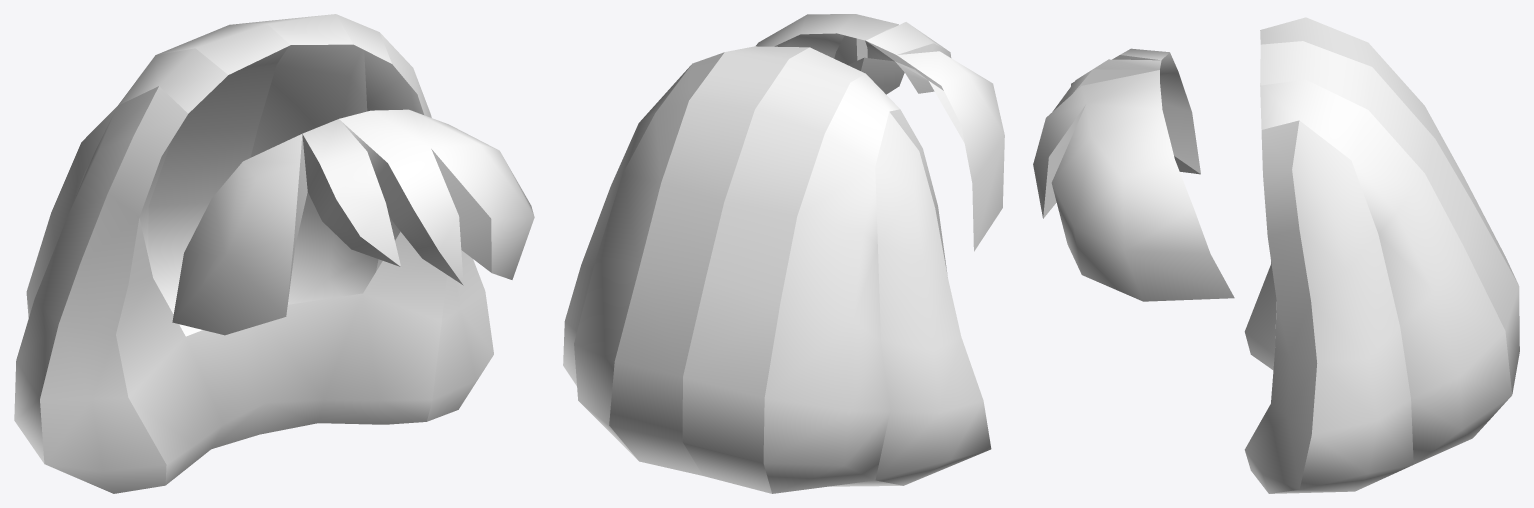
Rendered from Female_Hairs_04_v2.fbx.
3 views of the same model, side by side, from view 1: azimuth 30°, elevation 25°; view 2: azimuth 150°, elevation 25°; view 3: azimuth 270°, elevation 25° (orthographic). The views are drawn at different scales.
Visible parts, largest first — view 1: Female_Hairs_04_v2; view 2: Female_Hairs_04_v2; view 3: Female_Hairs_04_v2.
Boxes of the visible parts, x1=… form: Female_Hairs_04_v2: x1=14, y1=14, x2=534, y2=493; Female_Hairs_04_v2: x1=563, y1=14, x2=1004, y2=493; Female_Hairs_04_v2: x1=1033, y1=17, x2=1519, y2=493.
Bounding box in the file's own units: 74.34 × 68.61 × 76.64.
